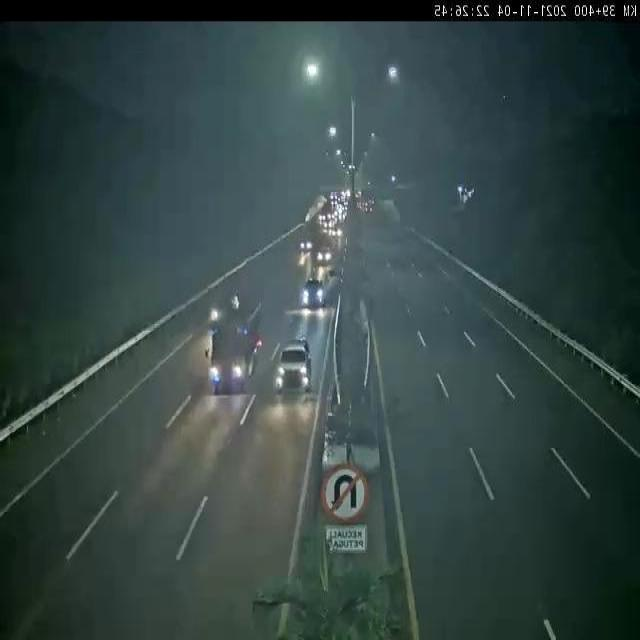Car: (273, 335, 312, 394), (302, 276, 326, 308), (315, 247, 335, 264), (300, 238, 314, 252)
Truck: (205, 293, 262, 394)
